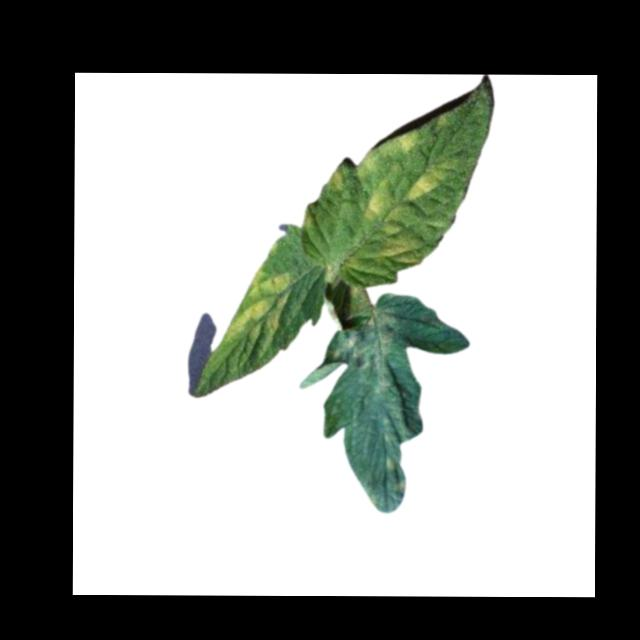Leaf_Mold: (334, 305, 404, 392), (225, 269, 296, 342), (381, 224, 423, 267), (407, 163, 454, 201), (363, 184, 389, 219), (324, 166, 352, 194), (397, 128, 423, 157)
